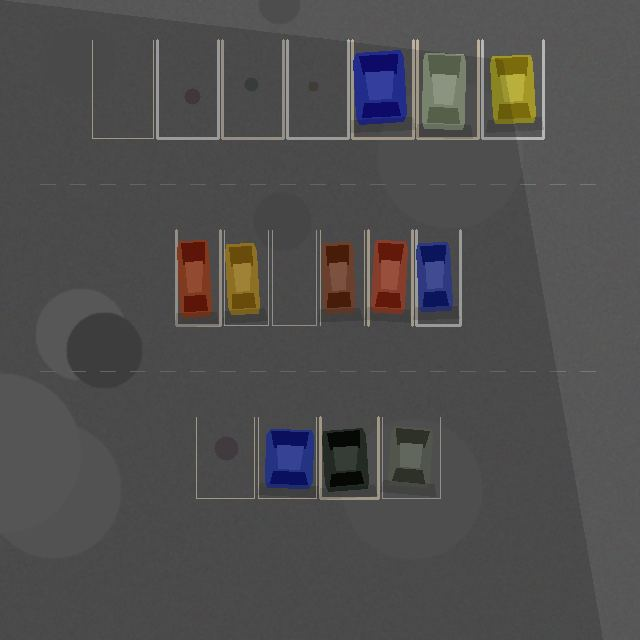space-empty: (92, 40, 153, 138), (157, 40, 218, 138), (222, 40, 283, 138), (287, 40, 348, 138), (196, 417, 254, 498), (272, 230, 316, 325)
space-occupied: (352, 40, 413, 138), (417, 40, 478, 138), (482, 40, 543, 138), (258, 417, 316, 498), (320, 417, 378, 498), (382, 417, 440, 498), (176, 230, 220, 325), (224, 230, 268, 325), (320, 230, 364, 325), (368, 230, 412, 325), (416, 230, 460, 325)
